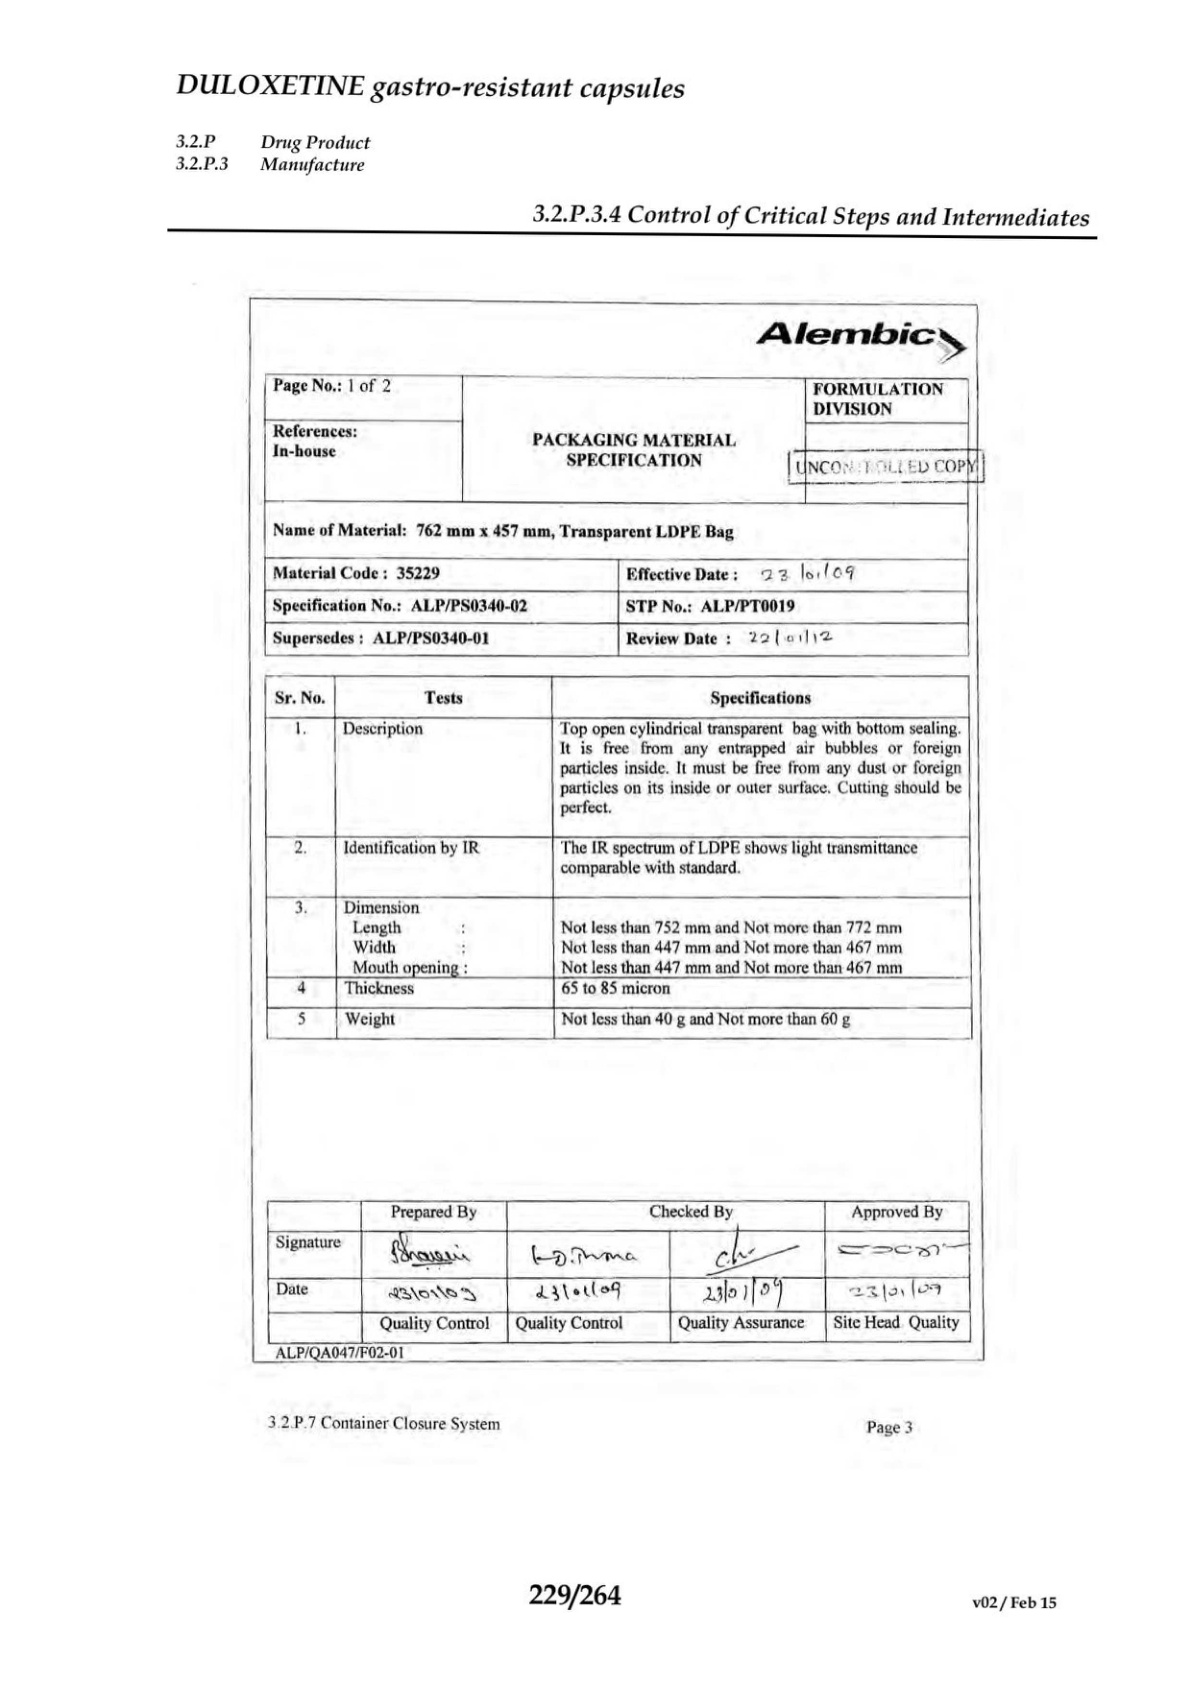full_lined: (263, 673, 974, 1041)
merged_cells: (263, 372, 970, 658), (266, 1199, 971, 1343)
